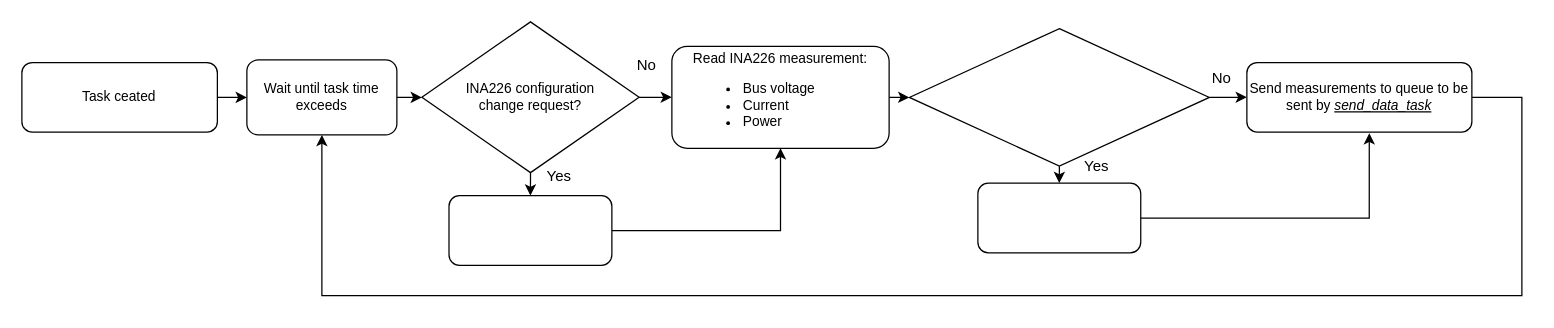
This 1554x328 diagram has some shape labels left out. Each missing label, with the centre of its shape:
"Bus voltage > max_voltage Current > max_current" belongs at (1058,96).
"Output positive pulse on GPIO6" belongs at (1059,217).
"Reconfigure INA226" belongs at (530,229).
